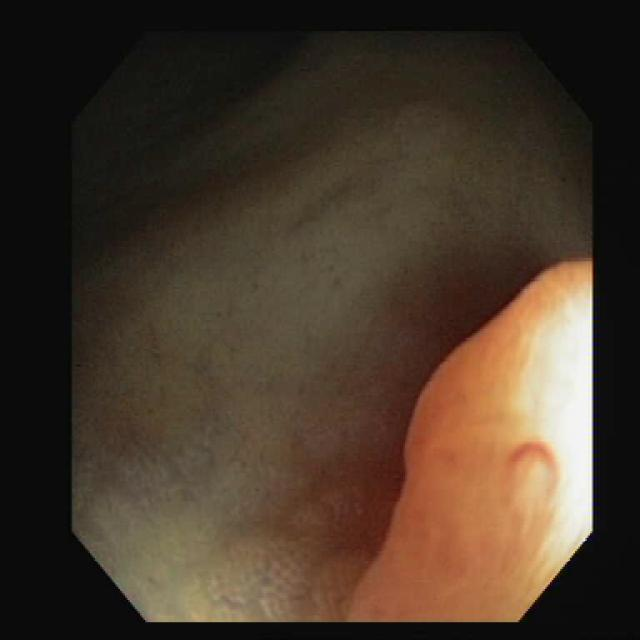tumor: (345, 258, 588, 620)
